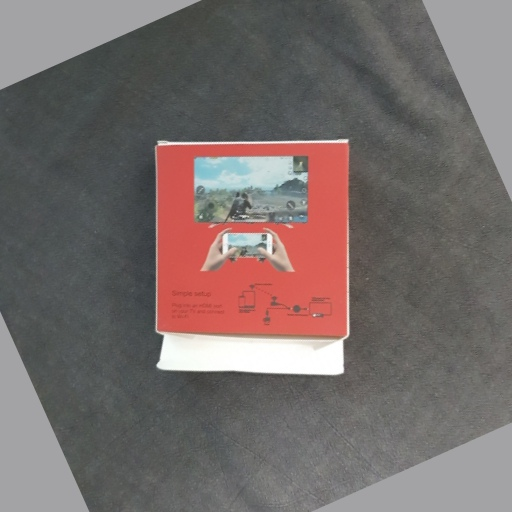Paper_0: (146, 132, 358, 381)
